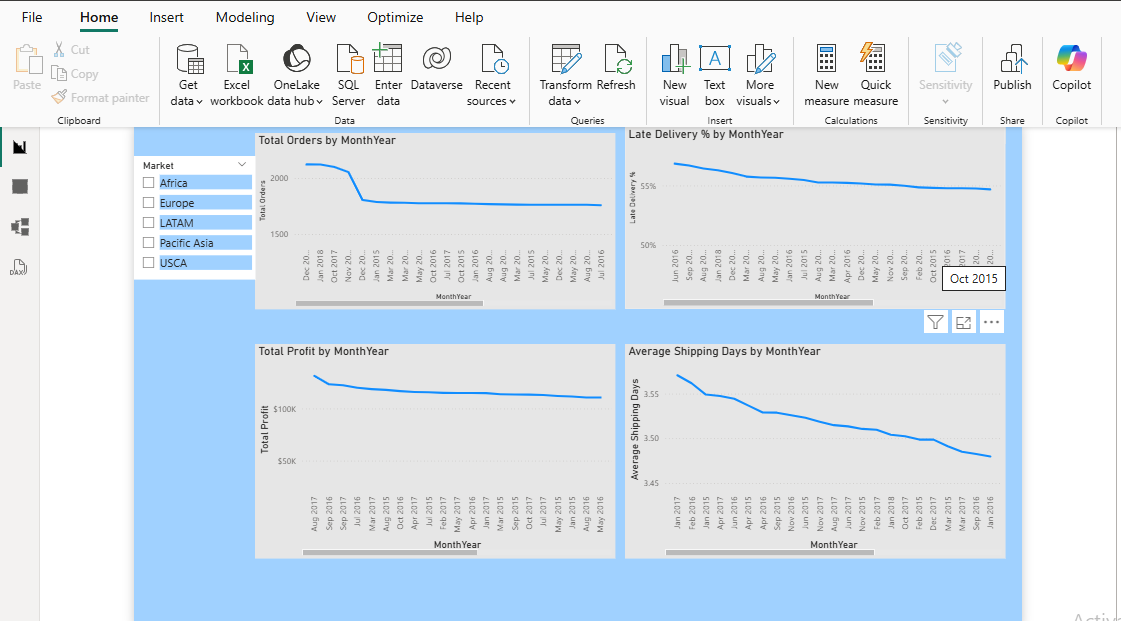

The dashboard page shown, as its layout file describes it:
{"tool":"powerbi","page":{"name":"Monthly Trends","canvas":[1280,720],"ordinal":4},"visuals":[{"type":"lineChart","fields":{"Category":["DataCoOrders.MonthYear"],"Y":["DataCoOrders.Total Orders"]},"box":[174.7,8.4,519.1,253.6],"z":0},{"type":"lineChart","fields":{"Category":["DataCoOrders.MonthYear"],"Y":["DataCoOrders.Total Profit"]},"box":[174.7,312.4,519.1,309.1],"z":1000},{"type":"lineChart","fields":{"Category":["DataCoOrders.MonthYear"],"Y":["DataCoOrders.Late Delivery %"]},"box":[707.2,0,547.6,262],"z":2000},{"type":"lineChart","fields":{"Category":["DataCoOrders.MonthYear"],"Y":["DataCoOrders.Average Shipping Days"]},"box":[707.2,312.4,547.6,309.1],"z":3000},{"type":"slicer","fields":{"Values":["DataCoOrders.Market"]},"box":[0,42,174.7,178.1],"z":3001}]}

Visuals, with their boxes on the page's 1280x720 design canvas (x1, y1, x2, y2). These are canvas units, not pixel positions in the 1121x621 screenshot, which may show the page scaled, cropped or inside an application window:
lineChart - DataCoOrders.MonthYear x DataCoOrders.Total Orders: {"x1": 175, "y1": 8, "x2": 694, "y2": 262}
lineChart - DataCoOrders.MonthYear x DataCoOrders.Total Profit: {"x1": 175, "y1": 312, "x2": 694, "y2": 622}
lineChart - DataCoOrders.MonthYear x DataCoOrders.Late Delivery %: {"x1": 707, "y1": 0, "x2": 1255, "y2": 262}
lineChart - DataCoOrders.MonthYear x DataCoOrders.Average Shipping Days: {"x1": 707, "y1": 312, "x2": 1255, "y2": 622}
slicer - DataCoOrders.Market: {"x1": 0, "y1": 42, "x2": 175, "y2": 220}
